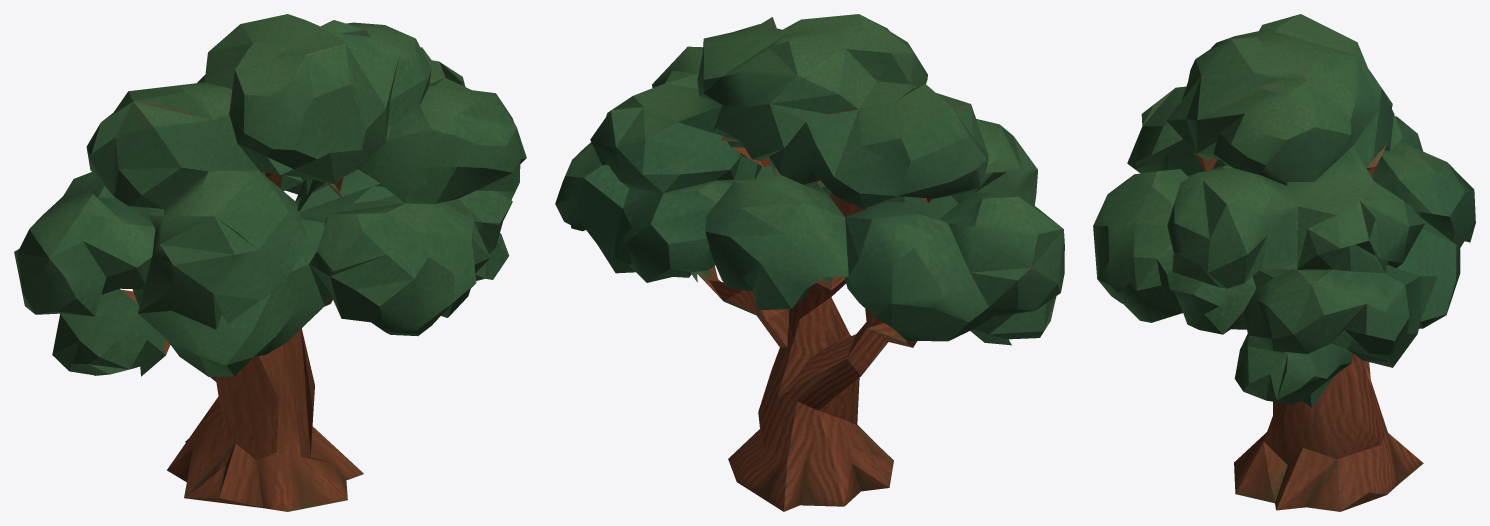
Rendered from tree_oak.glb.
3 renders of one model, left to right at view 1: azimuth 30°, elevation 25°; view 2: azimuth 150°, elevation 25°; view 3: azimuth 270°, elevation 25°, orthographic. The views are drawn at different scales.
Visible parts, largest first — view 1: Mesh_0; view 2: Mesh_0; view 3: Mesh_0.
Boxes of the visible parts, x1,y1,x2,y2 form: Mesh_0: (14,14,526,511); Mesh_0: (555,14,1064,511); Mesh_0: (1093,14,1475,511).
Bounding box in the file's own units: 1.86 × 1.64 × 1.31.
Materials: 1 (1 with a texture image).
